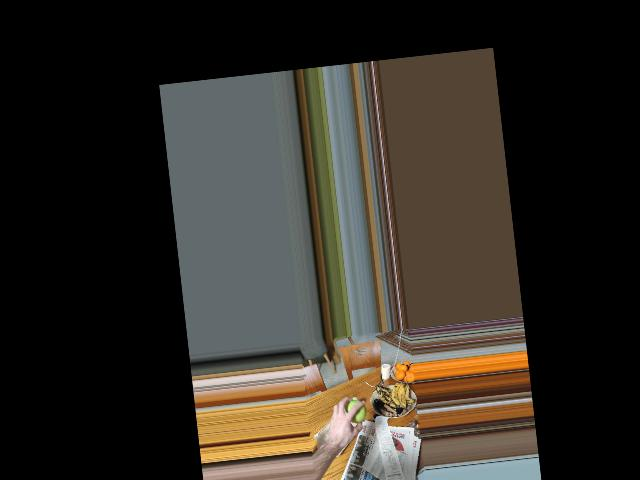apple: (341, 397, 366, 426)
